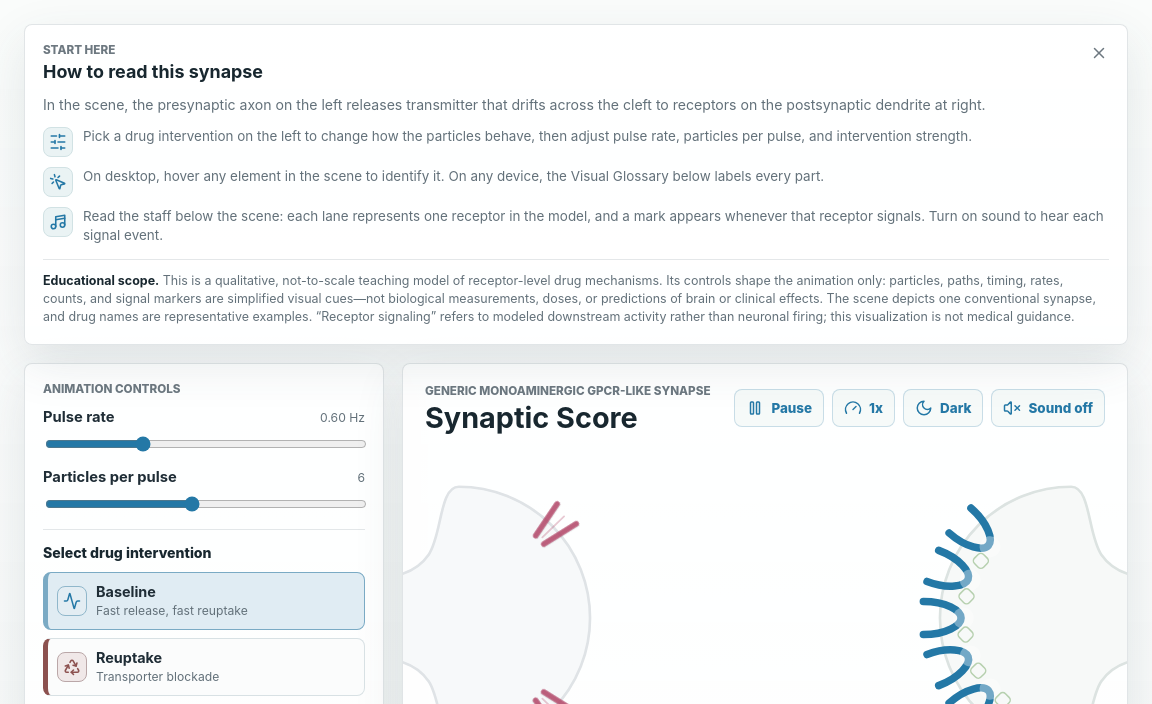
Test: App › shows the orientation intro and lets the reader dismiss it
The image size is (1152, 704).
Expected: the heading "How to read this synapse" is shown, [43,61,263,82]
Expected: the text "Educational scope." is shown, [43,272,159,288]
Click the button named "dismiss introduction" at coordinates (1099, 53), box [1083,37,1115,69]
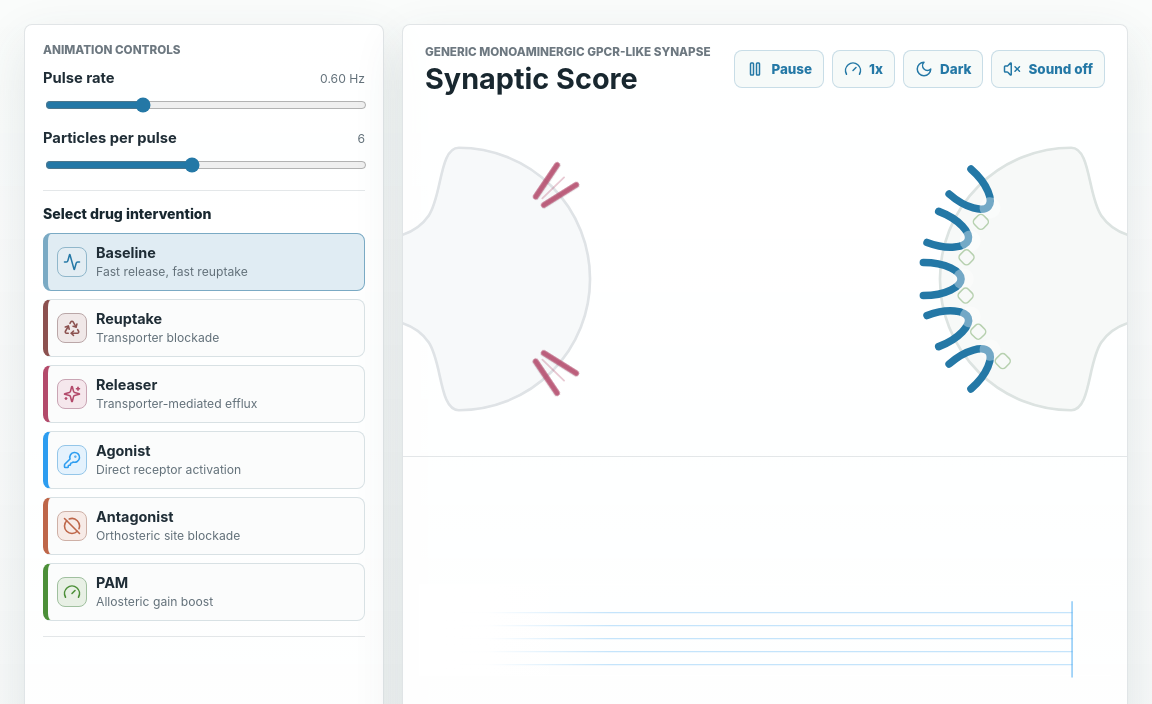
Expected: the heading "How to read this synapse" is gone
Expected: the text "Educational scope." is gone
